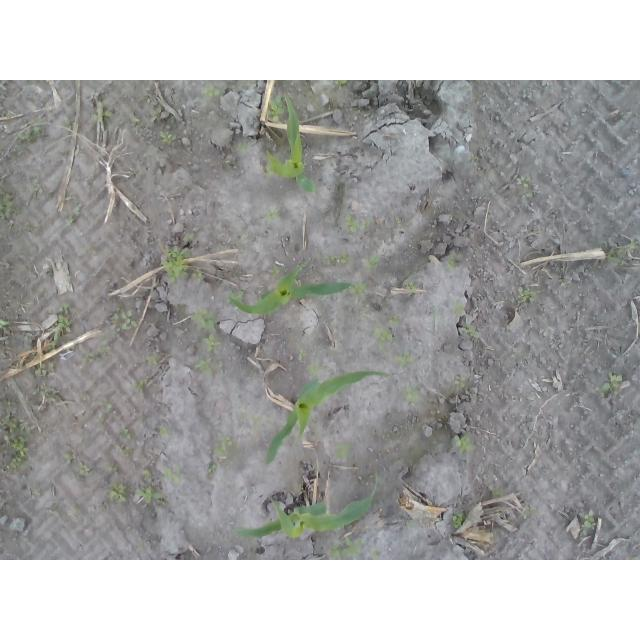Maize: (265, 369, 391, 463), (229, 474, 380, 542), (228, 265, 352, 315), (272, 90, 316, 194)
Weeds: (0, 398, 30, 474), (160, 241, 192, 287), (368, 314, 401, 353), (606, 238, 640, 266), (328, 536, 365, 561), (16, 124, 47, 148), (111, 305, 138, 331), (599, 371, 624, 396), (190, 306, 216, 330), (322, 249, 353, 268), (340, 215, 369, 234), (453, 433, 476, 456), (57, 304, 73, 337), (134, 485, 162, 503), (0, 181, 12, 222), (267, 95, 285, 122), (264, 150, 281, 176), (90, 108, 112, 128), (194, 353, 214, 375), (109, 483, 129, 505), (164, 462, 187, 480), (212, 436, 232, 456), (207, 328, 221, 354), (394, 351, 414, 369), (334, 441, 354, 459), (516, 286, 537, 303), (262, 208, 282, 225), (306, 361, 327, 377), (68, 202, 83, 224), (404, 383, 422, 401), (578, 510, 595, 529), (447, 374, 466, 391), (456, 134, 473, 153), (160, 127, 177, 145), (201, 83, 220, 98), (450, 511, 465, 529), (462, 323, 480, 337), (32, 386, 52, 398), (352, 281, 369, 295), (144, 353, 161, 367), (366, 255, 381, 270), (517, 174, 531, 190), (35, 363, 50, 377), (31, 176, 43, 193), (405, 280, 419, 294), (130, 380, 145, 393), (48, 334, 60, 350), (78, 461, 90, 477), (447, 255, 458, 270), (449, 303, 465, 313), (103, 399, 113, 415), (119, 424, 129, 440), (233, 143, 248, 153), (192, 270, 204, 282), (83, 350, 96, 361), (167, 115, 177, 129), (105, 463, 119, 473), (336, 80, 353, 88), (370, 549, 382, 560), (270, 266, 282, 277), (466, 154, 480, 162), (14, 206, 24, 217), (63, 451, 73, 462), (130, 117, 140, 128), (494, 488, 506, 497), (160, 425, 169, 436), (249, 414, 260, 423), (297, 348, 305, 360), (208, 463, 217, 473), (0, 317, 8, 328), (144, 469, 152, 480), (402, 520, 411, 529), (294, 484, 303, 492)
